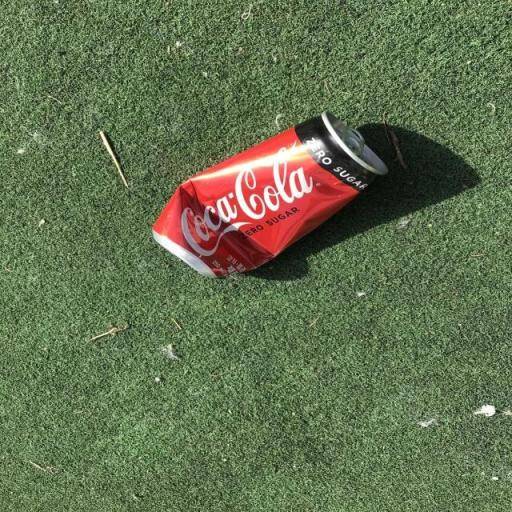metal: (138, 98, 408, 298)
